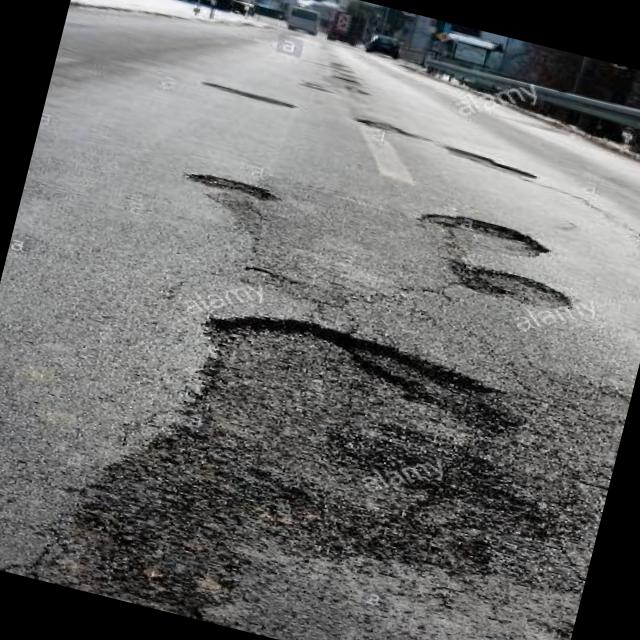Lubang: (115, 317, 549, 573), (450, 260, 571, 307), (420, 215, 548, 254), (445, 146, 534, 178), (202, 81, 292, 108), (187, 174, 278, 200), (355, 118, 427, 140)
